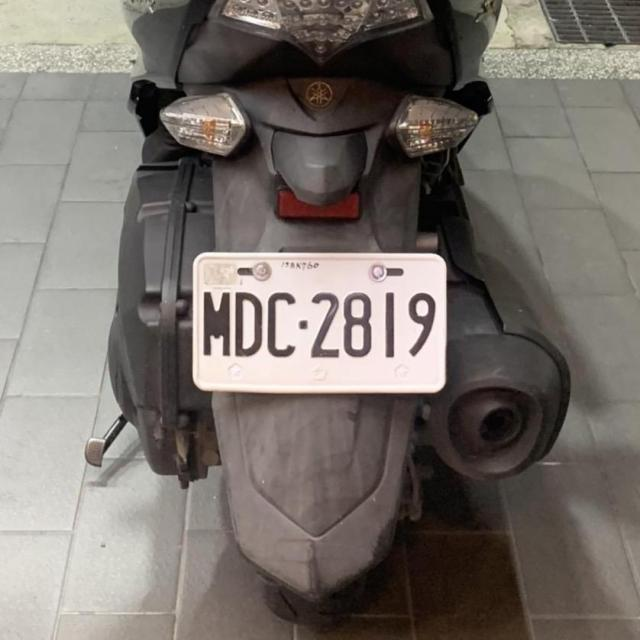W: (186, 245, 450, 400)
